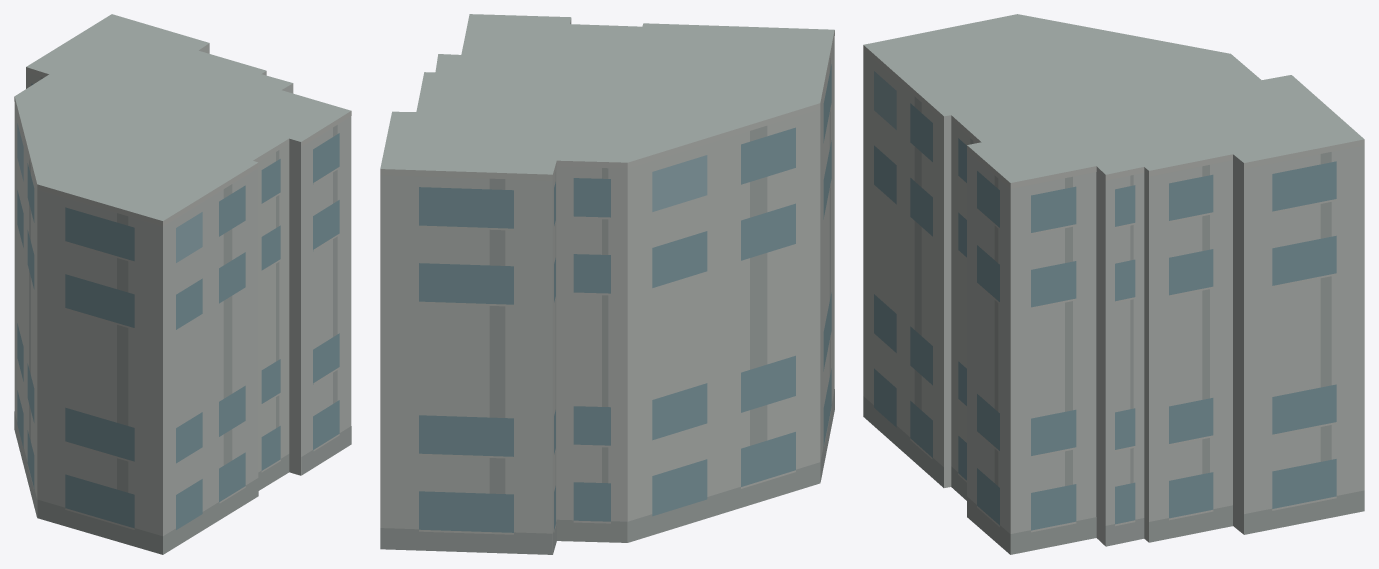
Rendered from survey-upis-32824060.glb.
3 views of the same model, side by side, from view 1: azimuth 30°, elevation 25°; view 2: azimuth 150°, elevation 25°; view 3: azimuth 270°, elevation 25° (orthographic). The views are drawn at different scales.
Parts seen in each view (by area): view 1: survey-upis-32824060.tmp; view 2: survey-upis-32824060.tmp; view 3: survey-upis-32824060.tmp.
Part boxes in pixels (x1,y1,x2,y2): survey-upis-32824060.tmp: (14, 14, 351, 554); survey-upis-32824060.tmp: (380, 14, 834, 554); survey-upis-32824060.tmp: (863, 14, 1364, 554).
Size of the model in its own units: 14.88 by 15.25 by 18.64.
